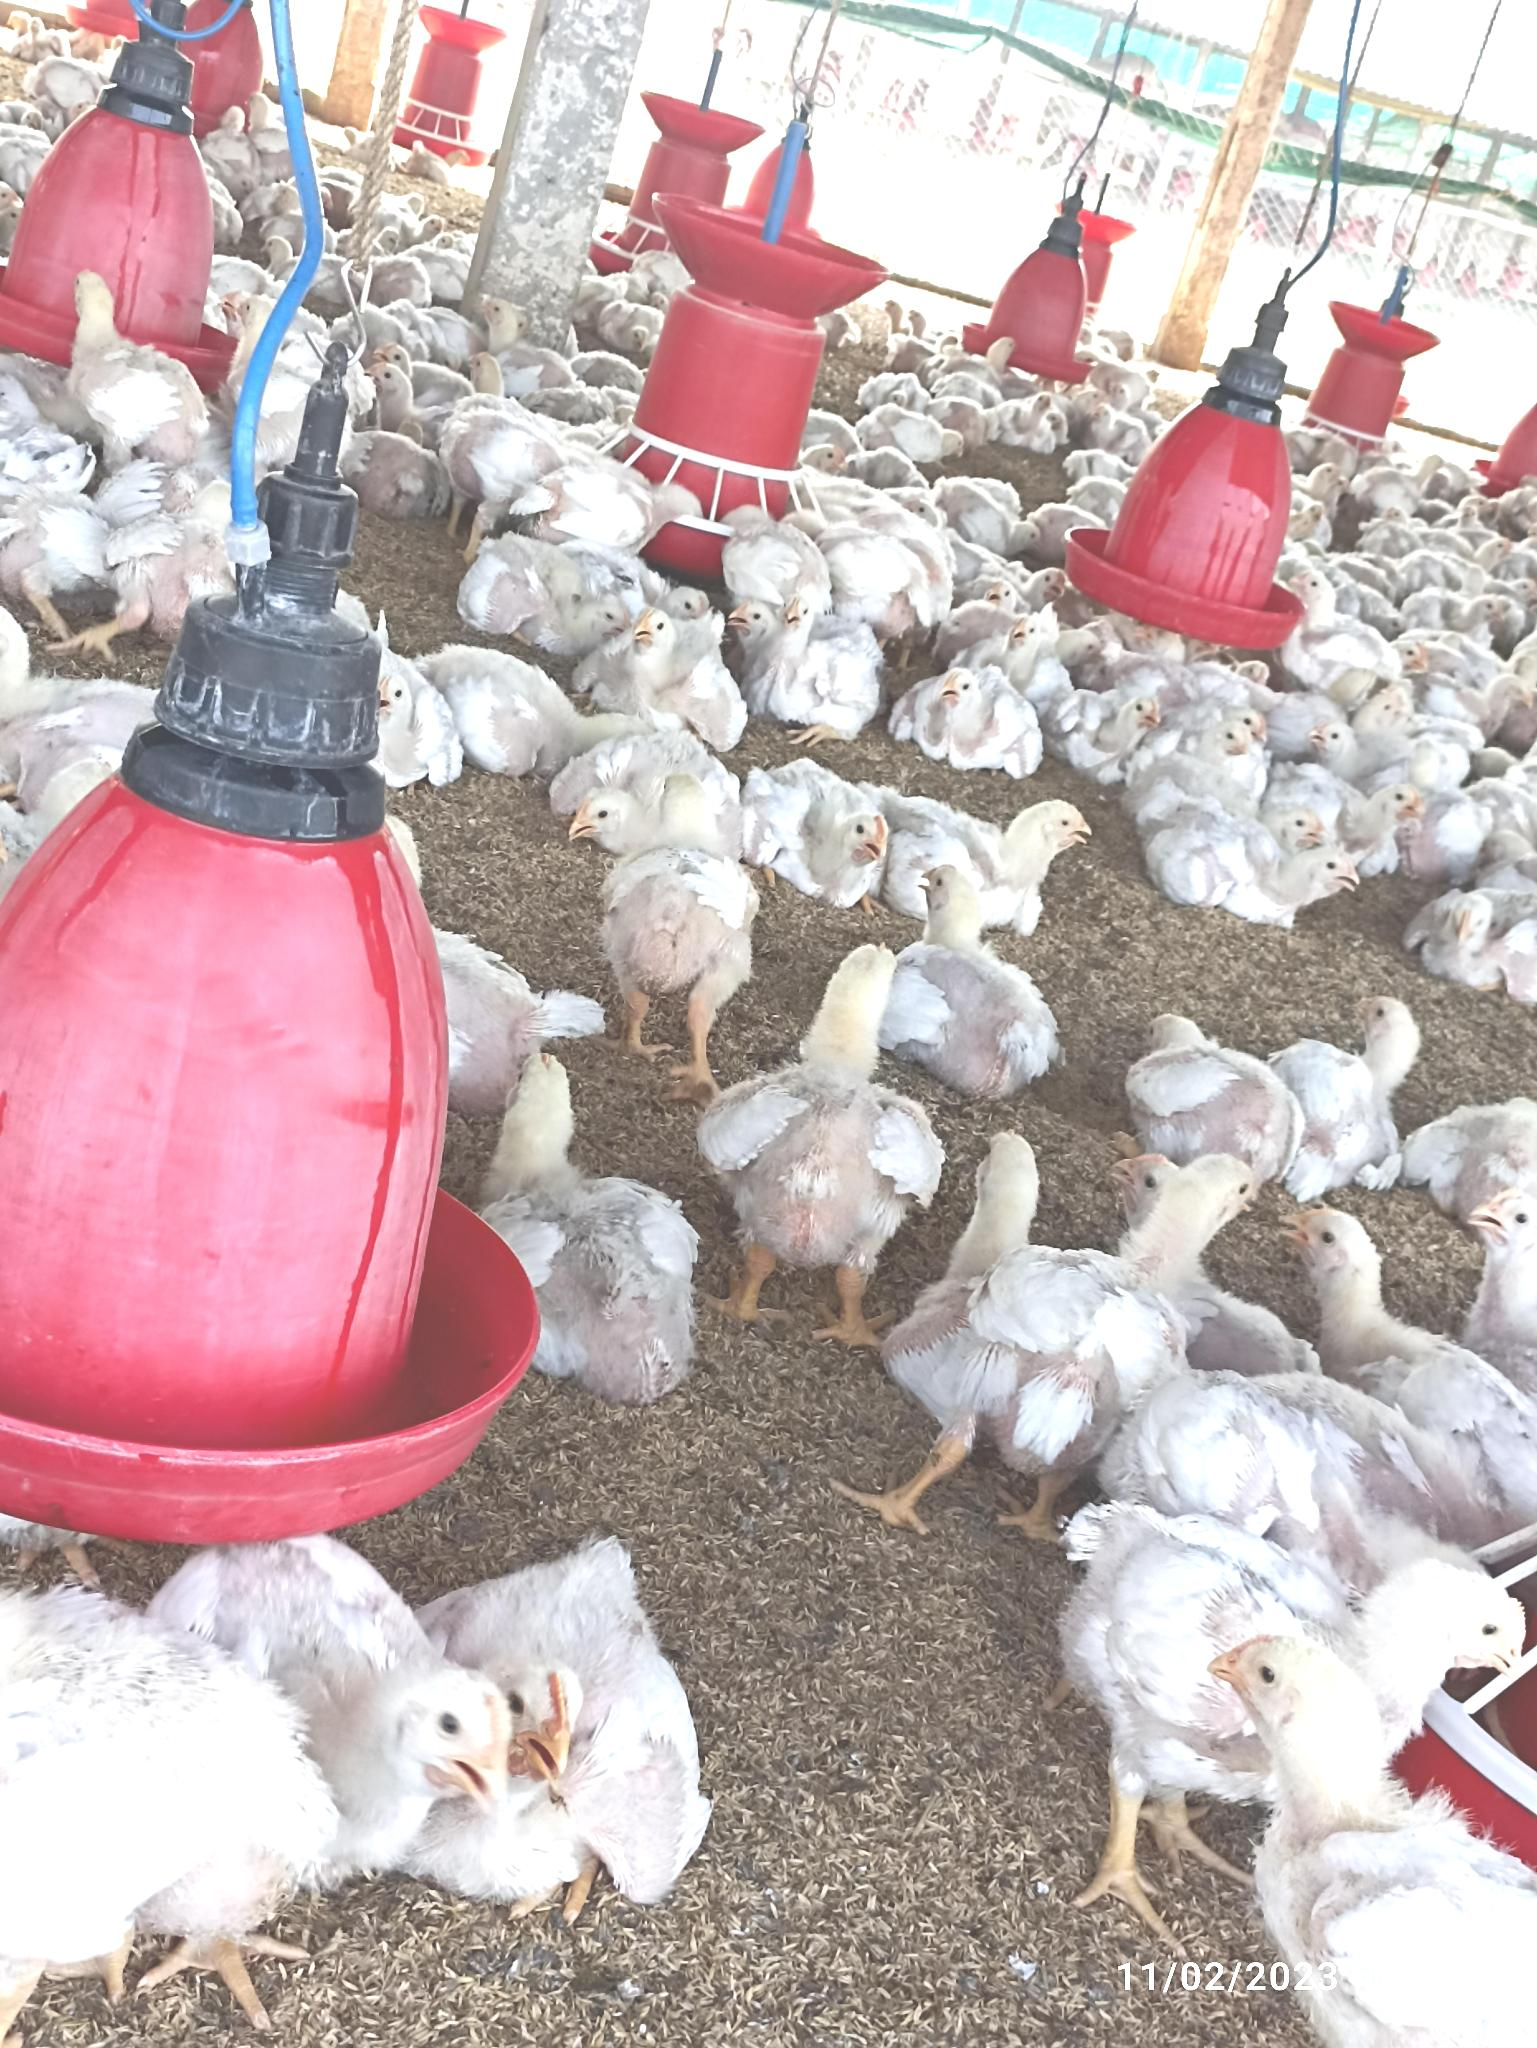Pollos: (325, 1511, 706, 1912), (1212, 1636, 1537, 2048), (2, 1583, 333, 1958), (1062, 1486, 1531, 1751), (906, 1139, 1190, 1433), (488, 1034, 701, 1415), (715, 947, 943, 1277), (1277, 1193, 1537, 1477), (890, 881, 1059, 1091), (562, 775, 730, 975), (1279, 991, 1435, 1185), (1153, 796, 1367, 928), (65, 270, 203, 460), (1132, 1014, 1284, 1175), (869, 800, 1103, 904), (752, 757, 903, 892), (584, 607, 744, 729), (762, 594, 873, 742), (1409, 873, 1537, 997), (1287, 563, 1401, 692), (903, 667, 1040, 773), (1146, 704, 1263, 805), (1056, 692, 1166, 767)
